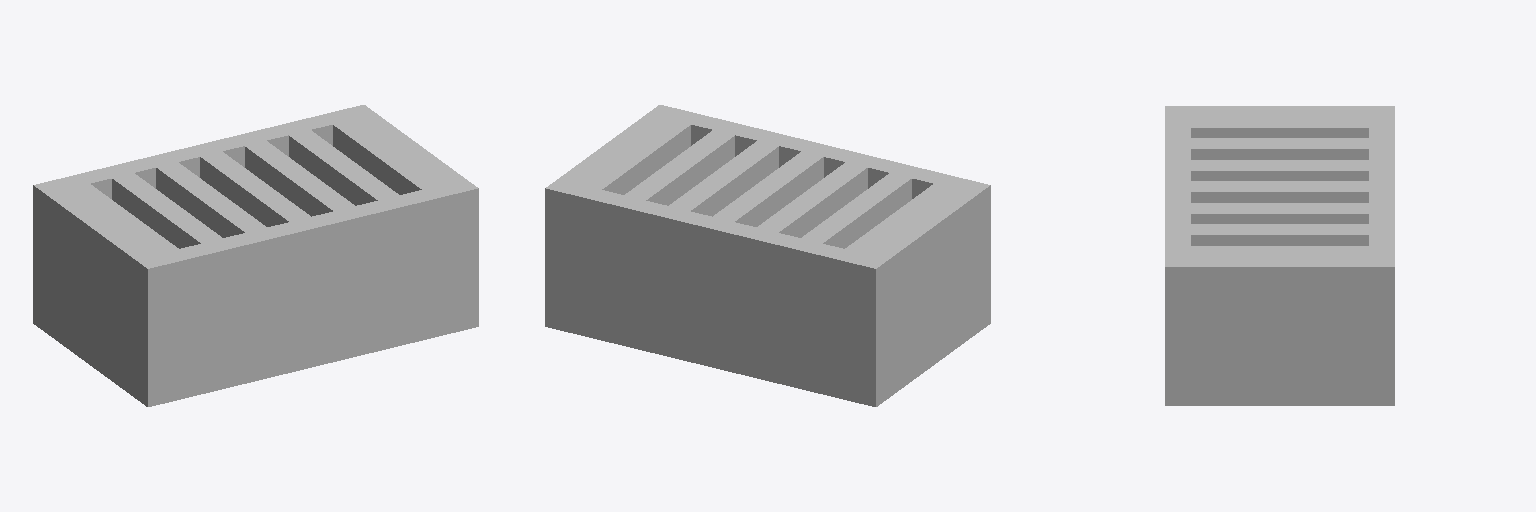
File: storagebox.obj
3 views of the same model, side by side, from view 1: azimuth 30°, elevation 25°; view 2: azimuth 150°, elevation 25°; view 3: azimuth 270°, elevation 25° (orthographic).
Parts seen in each view (by area): view 1: object 1; view 2: object 1; view 3: object 1.
Boxes of the visible parts, <box> form: object 1: <box>33,105,478,406</box>; object 1: <box>545,105,990,406</box>; object 1: <box>1165,106,1394,405</box>.
Bounding box in the file's own units: 1.5 × 0.6 × 0.9.